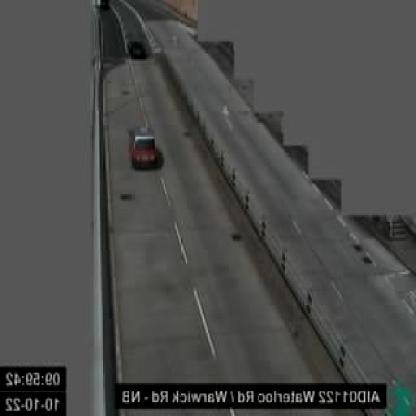Car: (129, 128, 162, 168), (129, 38, 146, 58)
